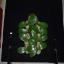leaf: (18, 31, 28, 42), (38, 34, 48, 42), (38, 42, 47, 50), (32, 24, 40, 32), (18, 21, 27, 28), (39, 22, 48, 29), (17, 47, 27, 53), (32, 14, 38, 24), (29, 51, 39, 57), (27, 45, 35, 52), (18, 28, 27, 34), (28, 39, 37, 45), (39, 28, 48, 34), (28, 18, 37, 24), (32, 30, 38, 38), (27, 14, 32, 22)
